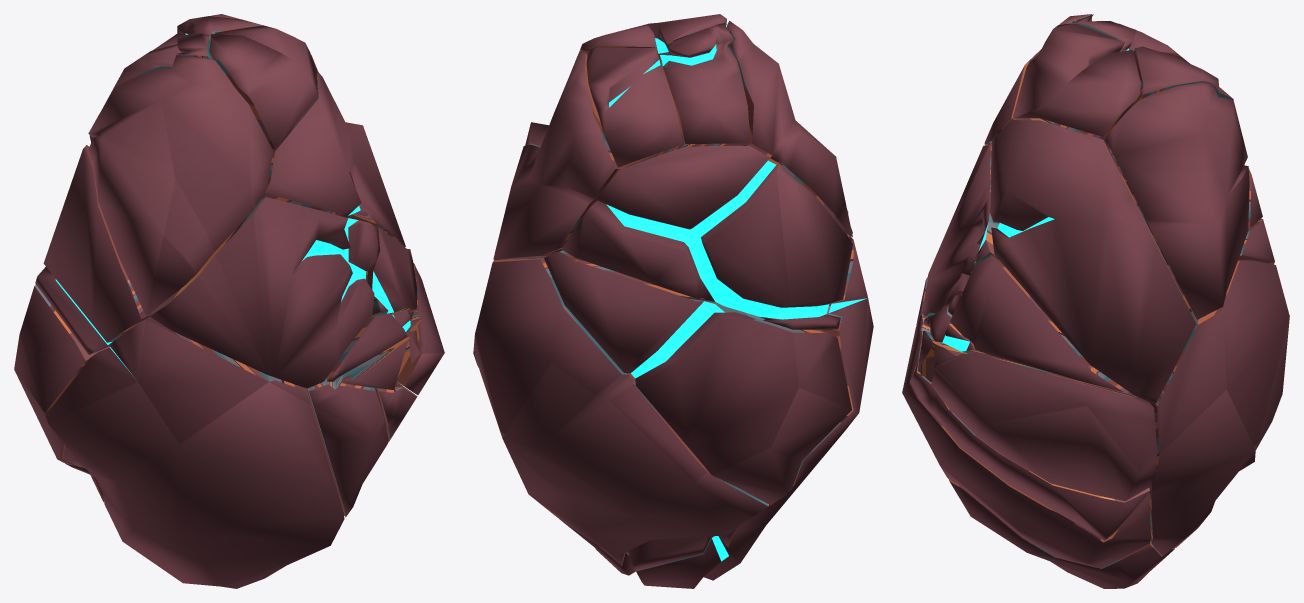
Rendered from Orb002Fract.fbx.
3 views of the same model, side by side, from view 1: azimuth 30°, elevation 25°; view 2: azimuth 150°, elevation 25°; view 3: azimuth 270°, elevation 25° (orthographic). The views are drawn at different scales.
Visible parts, largest first — view 1: Cube.007_cell.006, Cube.007_cell.002, Cube.007_cell.008, Cube.007_cell.016, Cube.007_cell.010, Cube.007_cell.004, Cube.007_cell.013, Cube.007_cell.012, Cube.007_cell.007, Cube.007_cell.009, Cube.007_cell.003, Cube.007_cell (+3 smaller); view 2: Cube.007_cell.014, Cube.007_cell.012, Cube.007_cell.016, Cube.007_cell.005, Cube.007_cell.006, Cube.007_cell.001, Cube.007_cell.002, Cube.007_cell.015, Cube.007_cell.004; view 3: Cube.007_cell.010, Cube.007_cell.014, Cube.007_cell.005, Cube.007_cell.009, Cube.007_cell.013, Cube.007_cell.004, Cube.007_cell.007, Cube.007_cell.011, Cube.007_cell.008, Cube.007_cell.006, Cube.007_cell.001, Cube.007_cell.015 (+5 smaller).
Boxes of the visible parts, left/top/right/bottom form: Cube.007_cell.006: left=45, top=318, right=344, bottom=588; Cube.007_cell.002: left=88, top=55, right=273, bottom=315; Cube.007_cell.008: left=150, top=197, right=378, bottom=388; Cube.007_cell.016: left=35, top=135, right=154, bottom=354; Cube.007_cell.010: left=262, top=71, right=405, bottom=246; Cube.007_cell.004: left=209, top=25, right=317, bottom=149; Cube.007_cell.013: left=305, top=375, right=388, bottom=517; Cube.007_cell.012: left=14, top=284, right=109, bottom=464; Cube.007_cell.007: left=367, top=228, right=417, bottom=317; Cube.007_cell.009: left=396, top=263, right=444, bottom=394; Cube.007_cell.003: left=327, top=310, right=413, bottom=381; Cube.007_cell: left=342, top=330, right=420, bottom=389; Cube.007_cell.014: left=473, top=251, right=768, bottom=570; Cube.007_cell.012: left=544, top=250, right=851, bottom=505; Cube.007_cell.016: left=561, top=145, right=852, bottom=329; Cube.007_cell.005: left=493, top=51, right=624, bottom=259; Cube.007_cell.006: left=559, top=236, right=873, bottom=588; Cube.007_cell.001: left=586, top=47, right=682, bottom=167; Cube.007_cell.002: left=726, top=21, right=852, bottom=236; Cube.007_cell.015: left=659, top=24, right=750, bottom=148; Cube.007_cell.004: left=579, top=14, right=726, bottom=61; Cube.007_cell.010: left=990, top=120, right=1195, bottom=404; Cube.007_cell.014: left=1128, top=260, right=1289, bottom=555; Cube.007_cell.005: left=1105, top=82, right=1249, bottom=319; Cube.007_cell.009: left=931, top=353, right=1157, bottom=501; Cube.007_cell.013: left=902, top=314, right=1150, bottom=568; Cube.007_cell.004: left=1012, top=23, right=1140, bottom=144; Cube.007_cell.007: left=948, top=255, right=1132, bottom=394; Cube.007_cell.011: left=911, top=361, right=1149, bottom=540; Cube.007_cell.008: left=922, top=143, right=998, bottom=317; Cube.007_cell.006: left=916, top=277, right=1174, bottom=588; Cube.007_cell.001: left=1107, top=46, right=1233, bottom=179; Cube.007_cell.015: left=1071, top=14, right=1186, bottom=60.
Bounding box in the file's own units: 0.3223 × 0.4598 × 0.2996.
